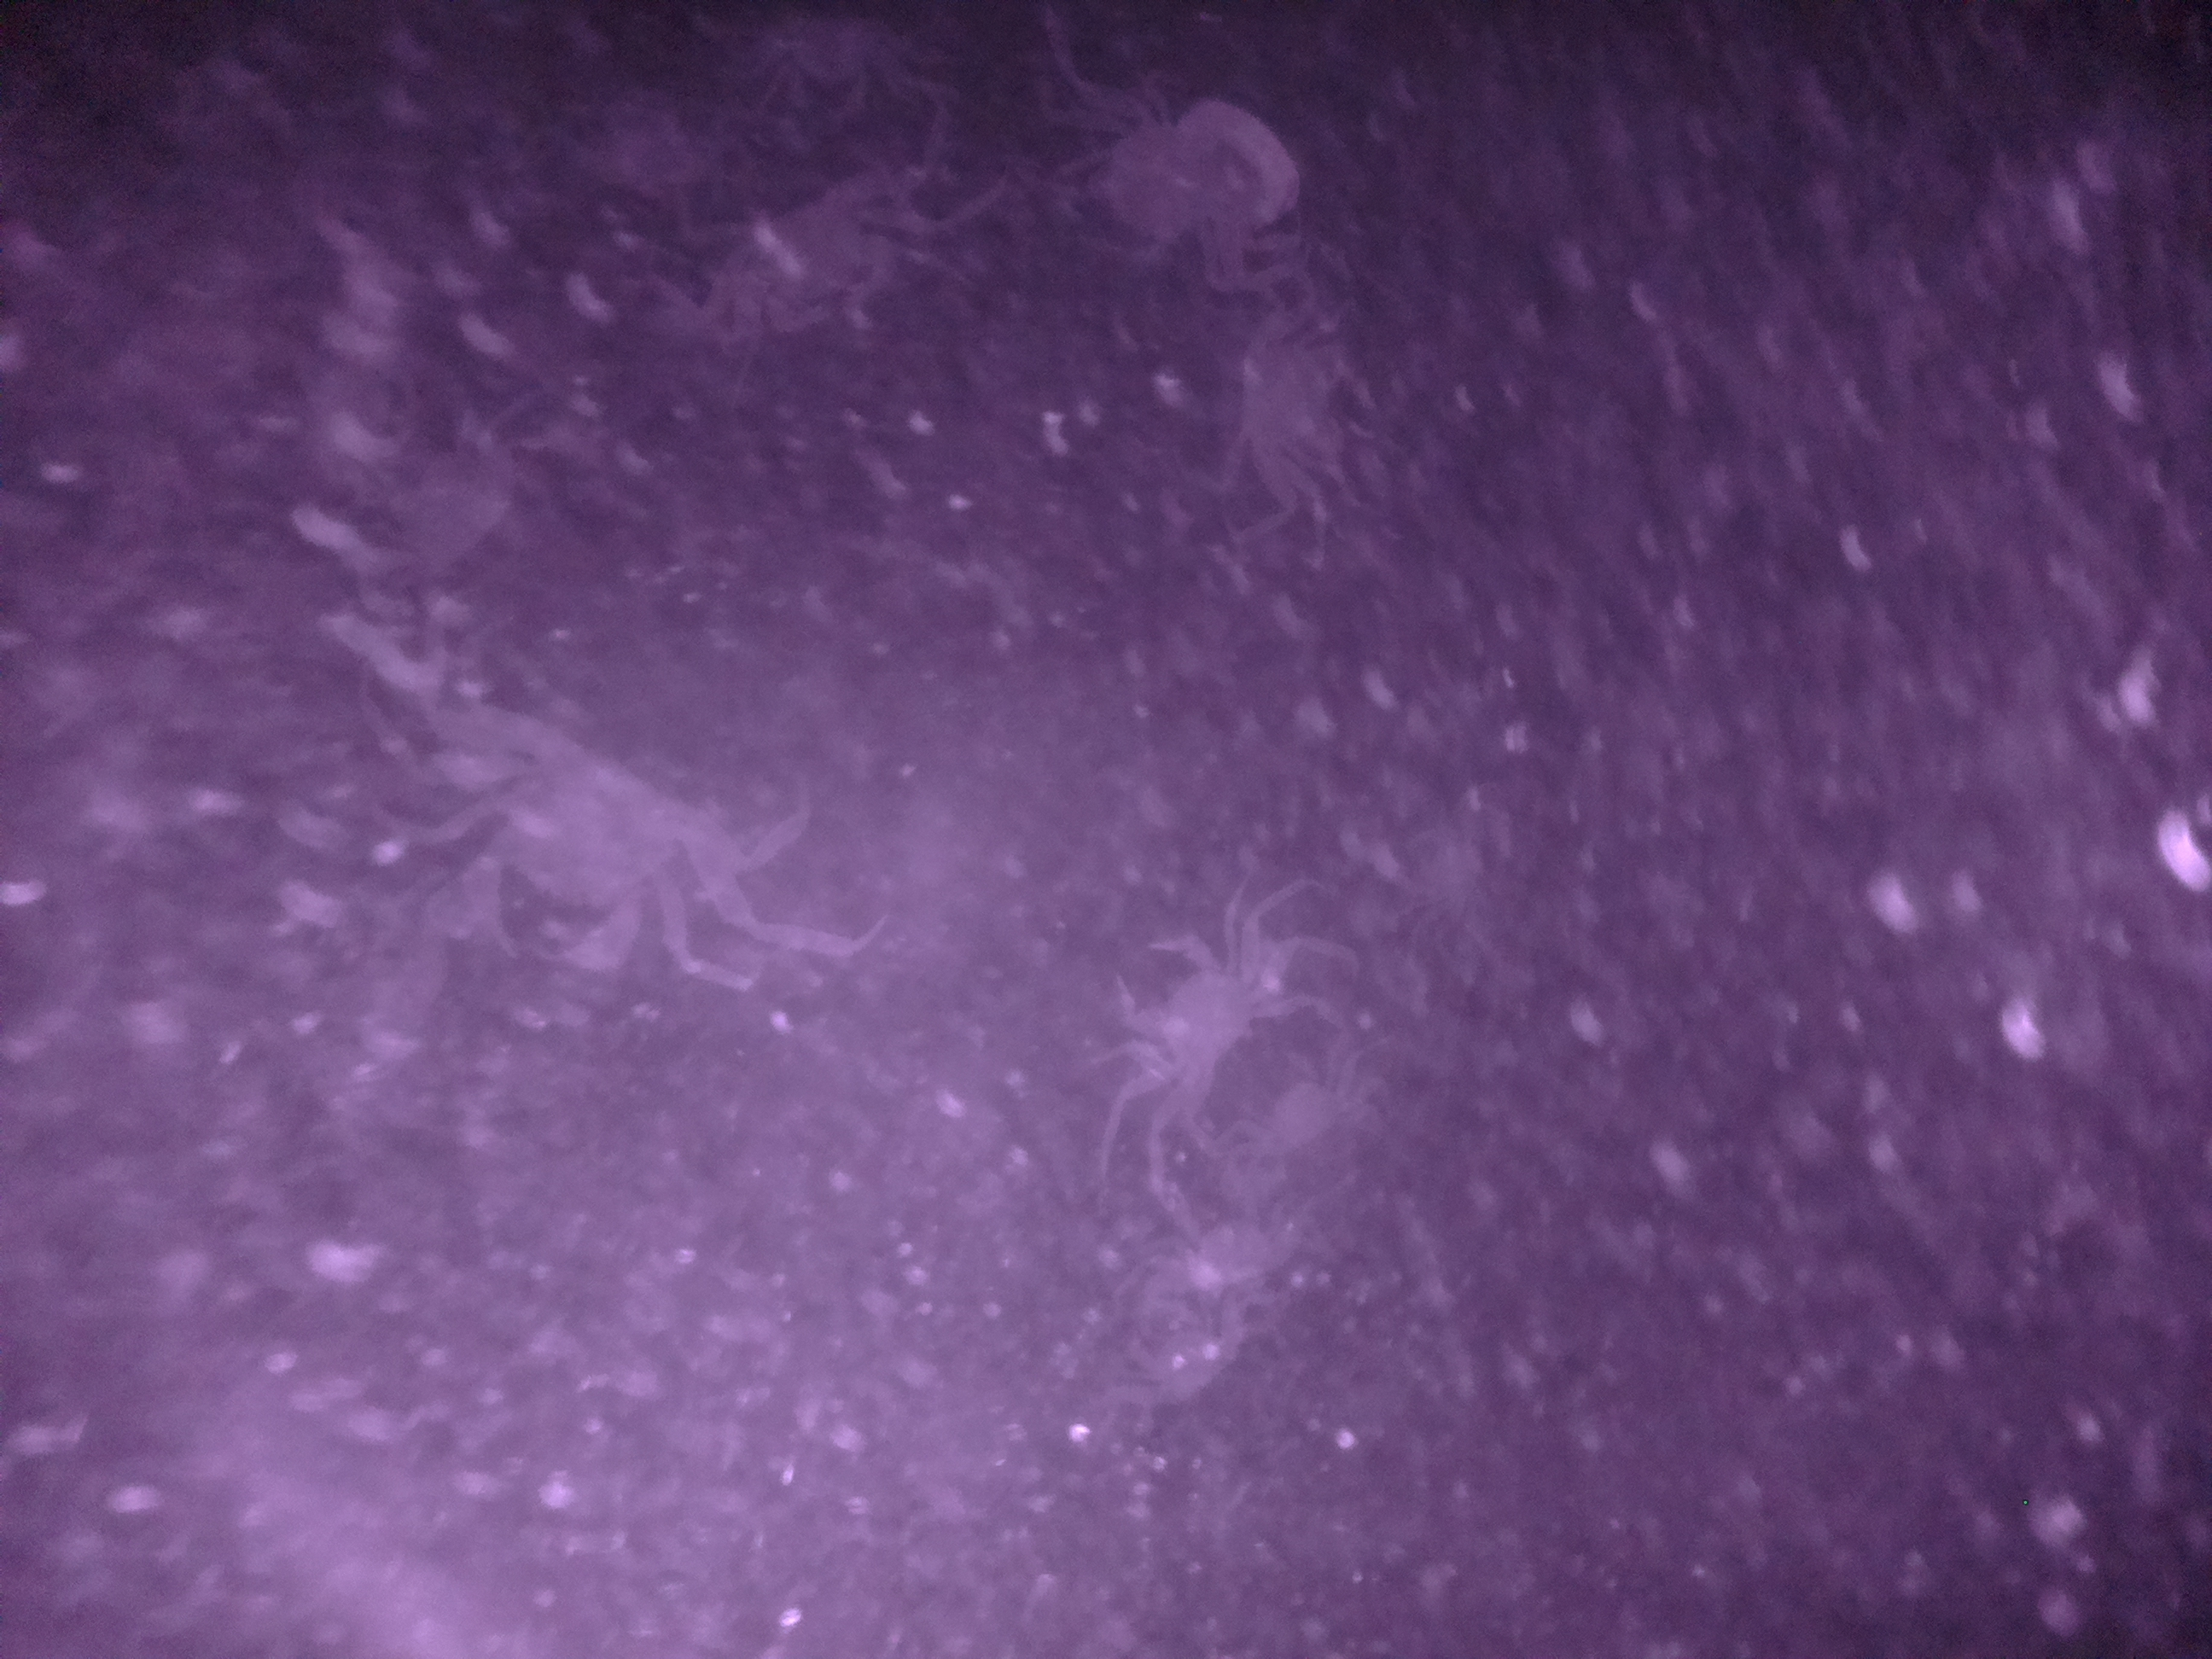Crab: (1089, 908, 1291, 1119)
